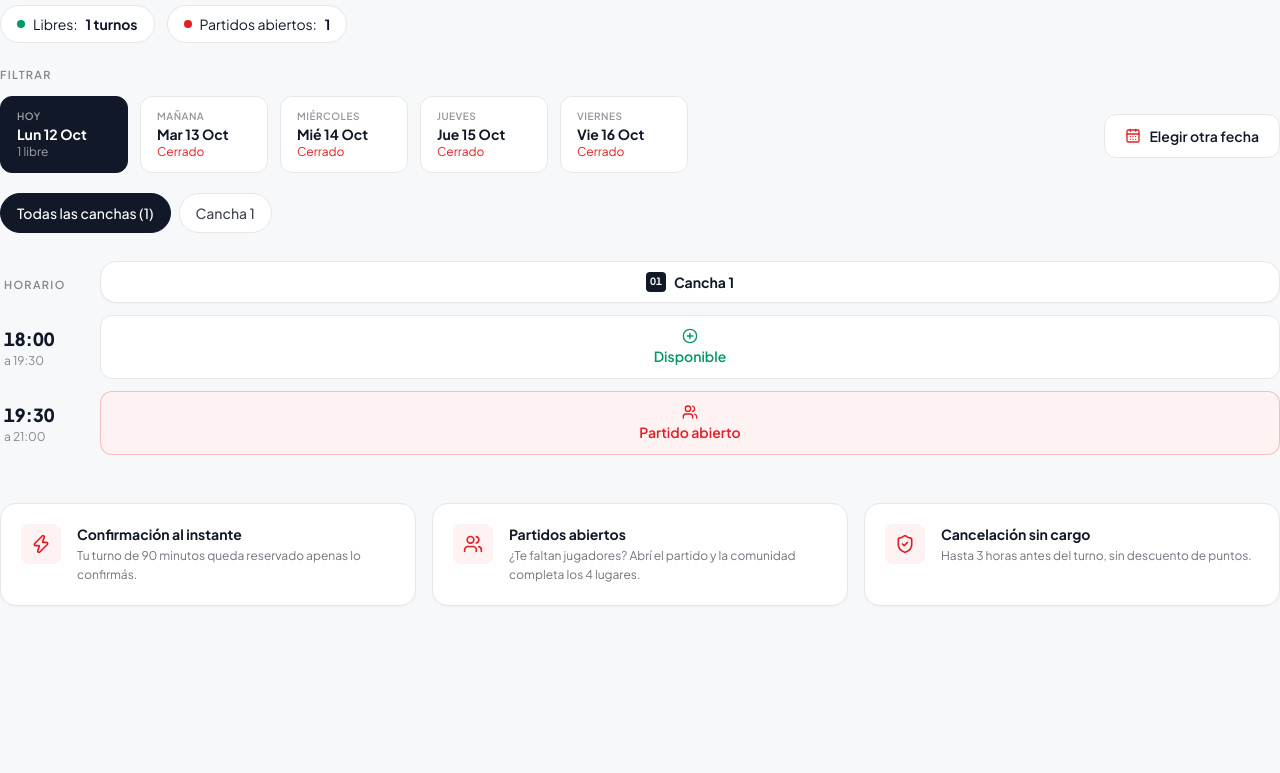
Test: BookingsBoard › muestra el resumen del turno solo al elegir un turno disponible
The image size is (1280, 773).
Check: the element "Resumen de tu turno" is not shown
Click the button with aria-label "Cancha 1, 18:00, disponible" at (690, 346), box [100,314,1279,378]
(page scrolled)
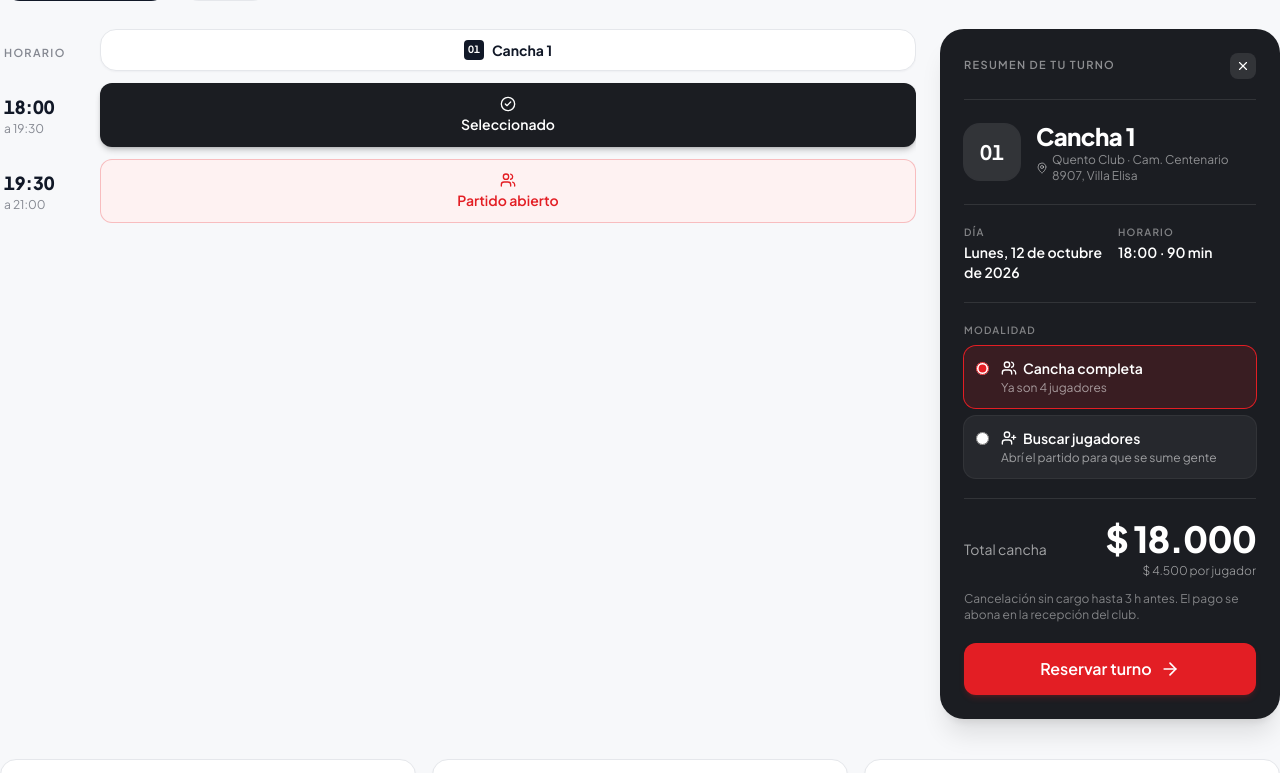
Check: the element "Resumen de tu turno" is shown, box [940,28,1279,718]
